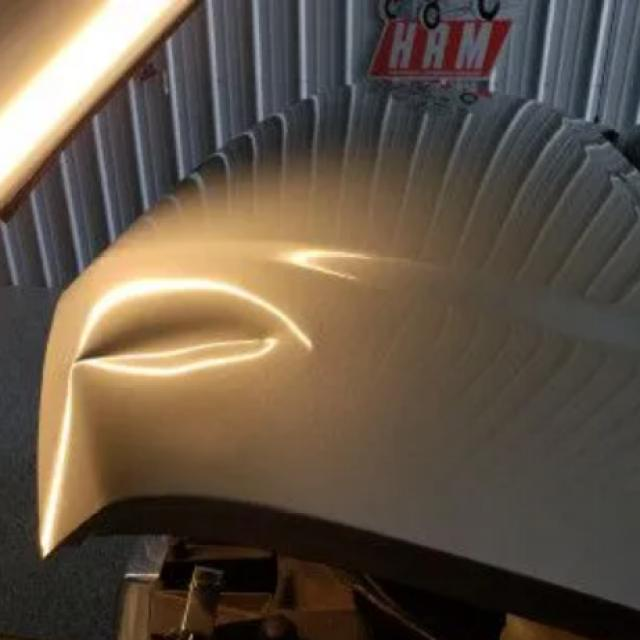dents: (74, 295, 285, 391)
